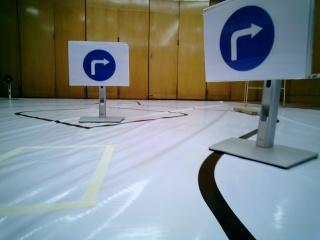right: (206, 0, 308, 75), (70, 42, 129, 84)
